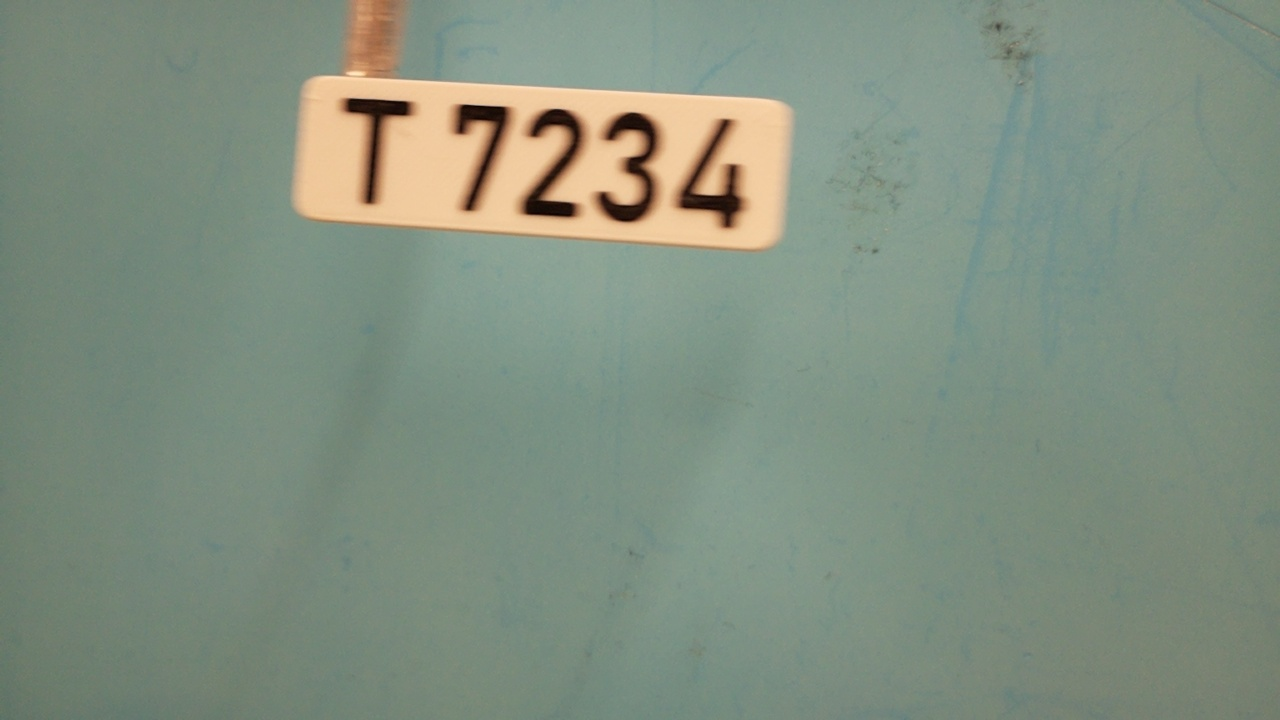license_plate: (289, 71, 797, 253)
